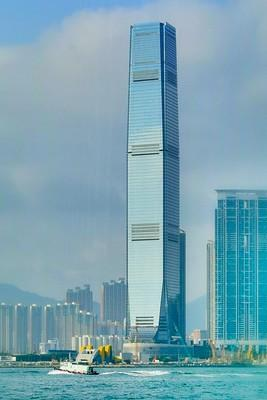building: (121, 14, 187, 364)
